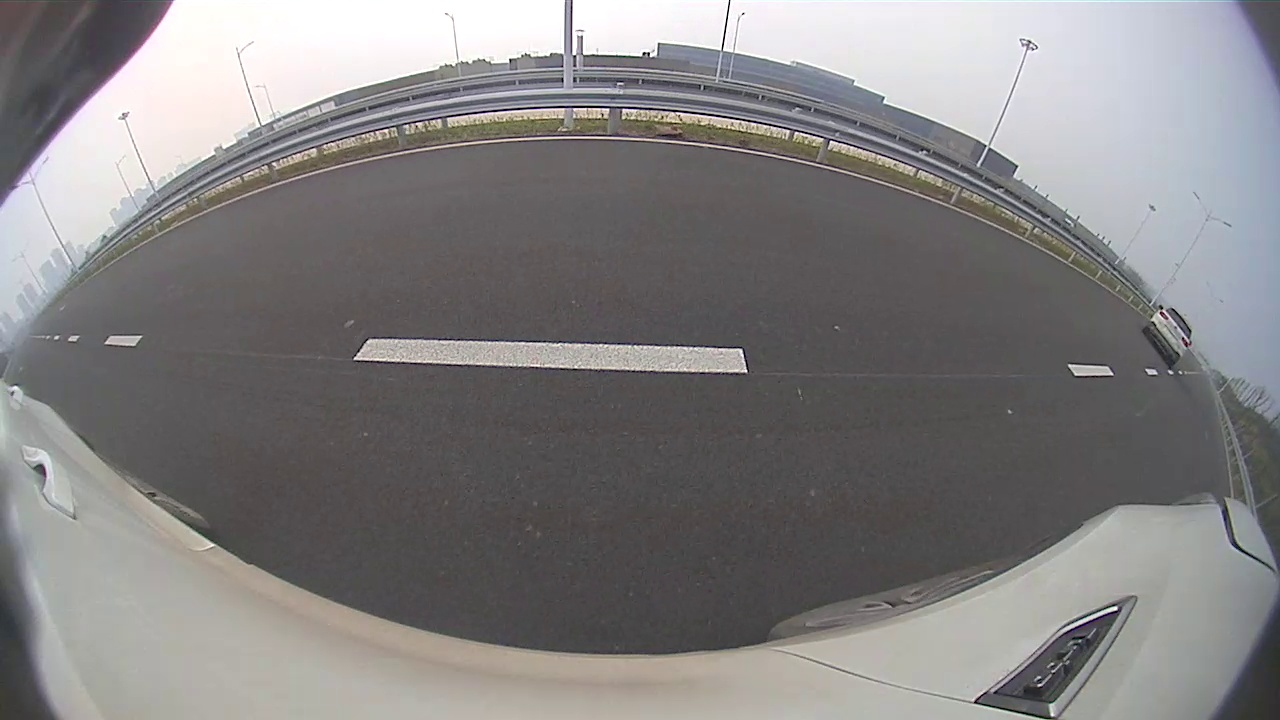car: (1142, 307, 1192, 366)
